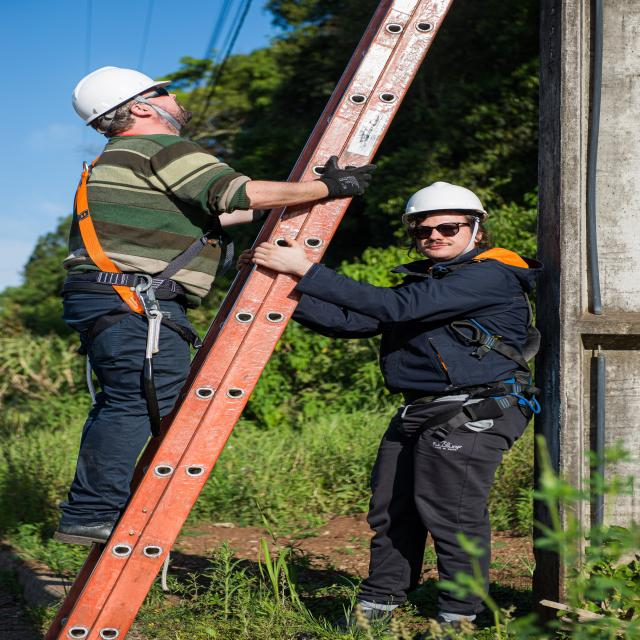capacete: (68, 65, 176, 127), (401, 181, 491, 228)
luva: (318, 154, 379, 200)
